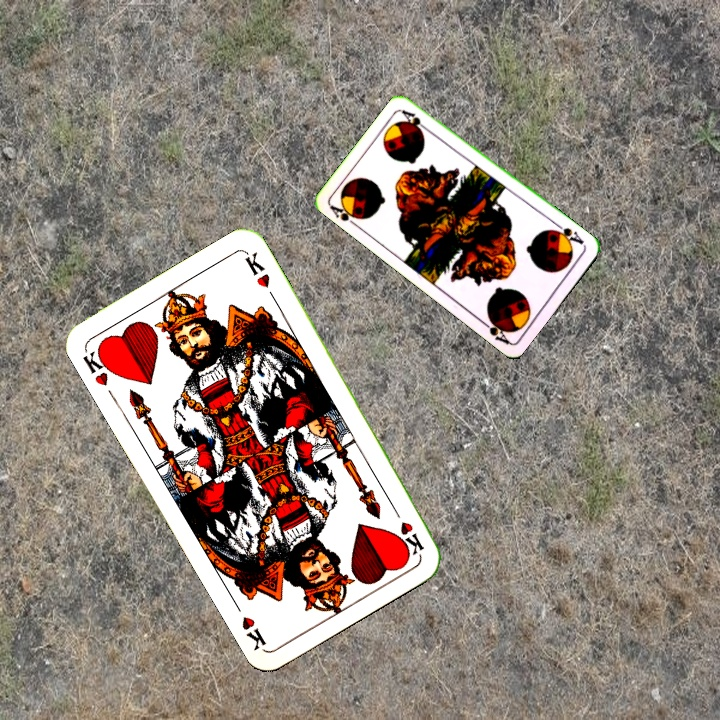HK: (388, 502, 427, 558), (79, 342, 118, 389)
SA: (326, 198, 366, 230), (548, 219, 587, 248)
